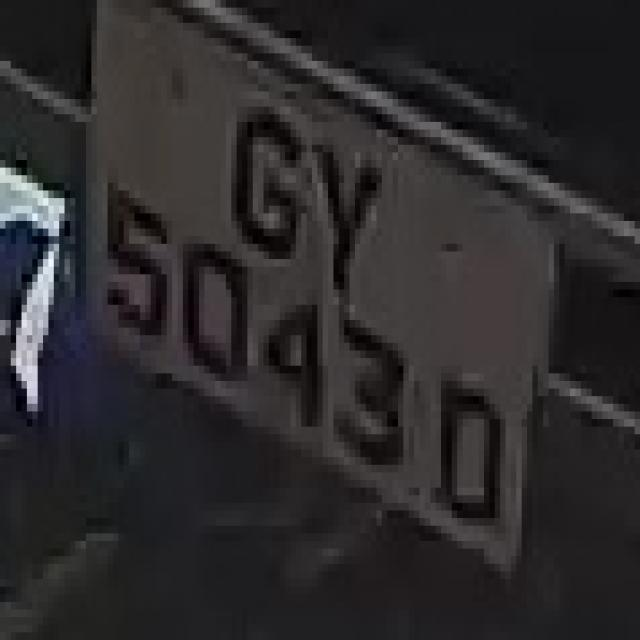0: (167, 198, 247, 412)
3: (344, 274, 414, 480)
4: (253, 244, 333, 442)
5: (97, 144, 167, 366)
D: (425, 343, 516, 564)
G: (215, 84, 307, 289)
Y: (301, 107, 393, 312)
